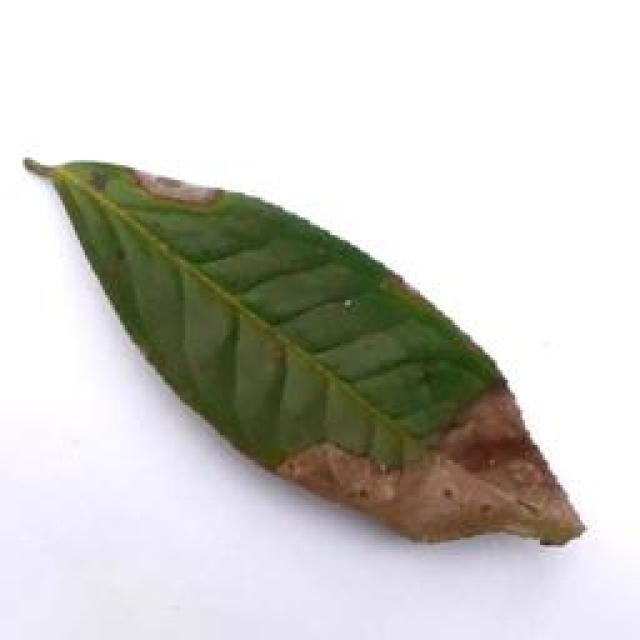Brown Blight: (8, 139, 591, 559)
